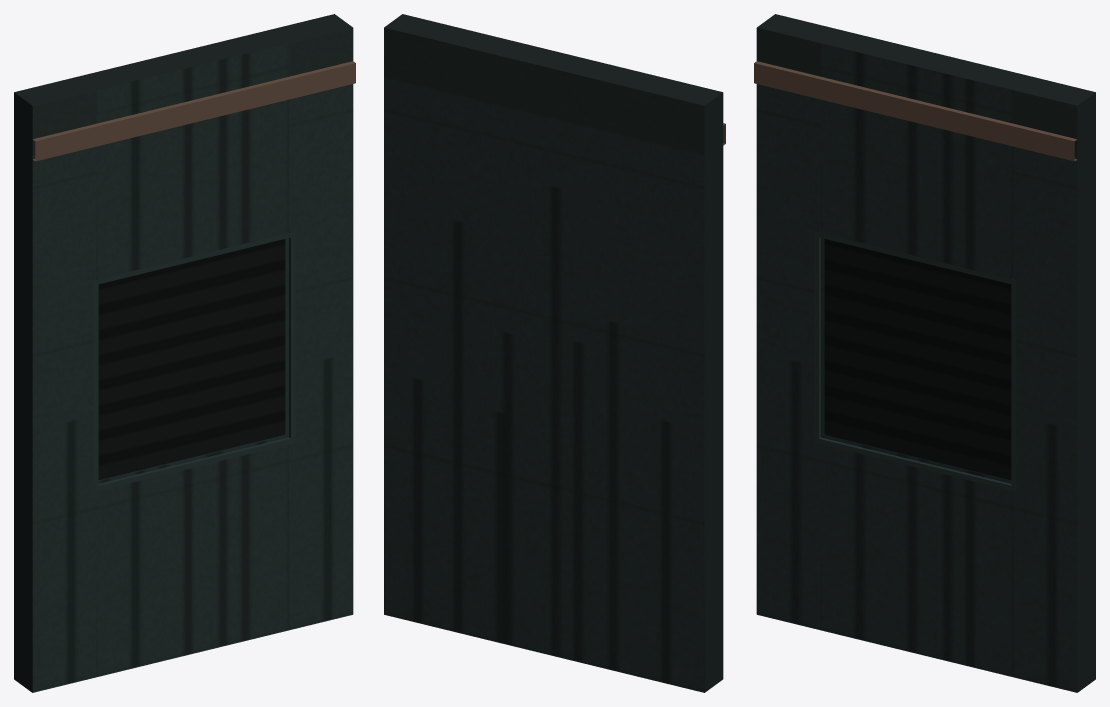
File: SM_Machine_Wall_Vent_200x350.fbx
3 renders of one model, left to right at view 1: azimuth 30°, elevation 25°; view 2: azimuth 150°, elevation 25°; view 3: azimuth 330°, elevation 25°, orthographic.
Visible parts, largest first — view 1: SM_Machine_Wall_Vent_200x350.001; view 2: SM_Machine_Wall_Vent_200x350.001; view 3: SM_Machine_Wall_Vent_200x350.001.
Part boxes in pixels (x1,y1,x2,y2): SM_Machine_Wall_Vent_200x350.001: (14, 14, 355, 692); SM_Machine_Wall_Vent_200x350.001: (384, 14, 725, 692); SM_Machine_Wall_Vent_200x350.001: (754, 14, 1095, 692).
Size of the model in its own units: 2 by 3.5 by 0.23.
